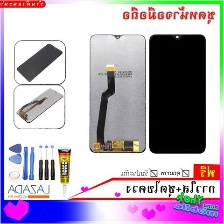phone: (147, 29, 210, 155), (85, 31, 147, 155), (13, 40, 64, 83), (14, 86, 63, 126)
